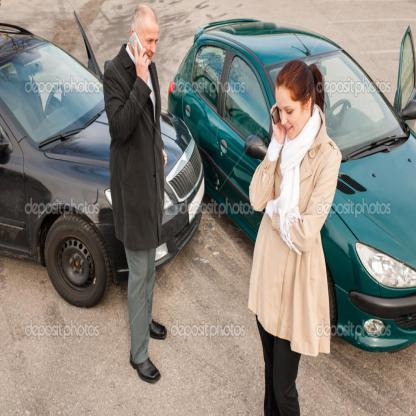face: (277, 93, 305, 140), (135, 25, 160, 66)
